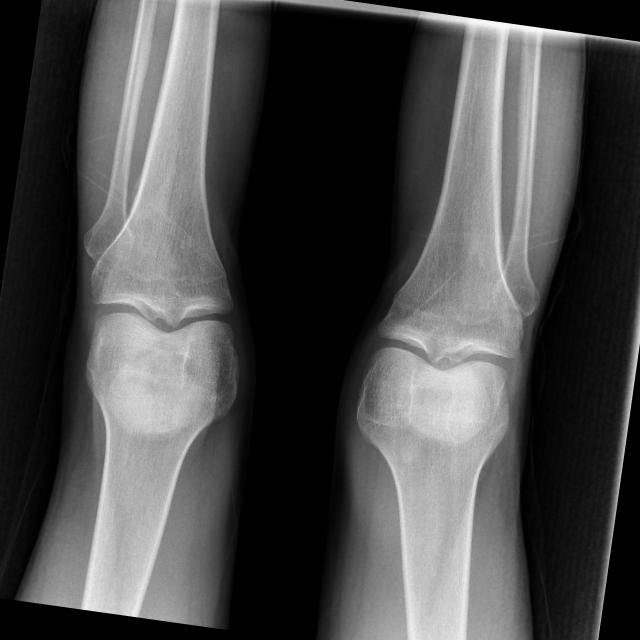Knee: (74, 239, 258, 418), (353, 290, 529, 460)
